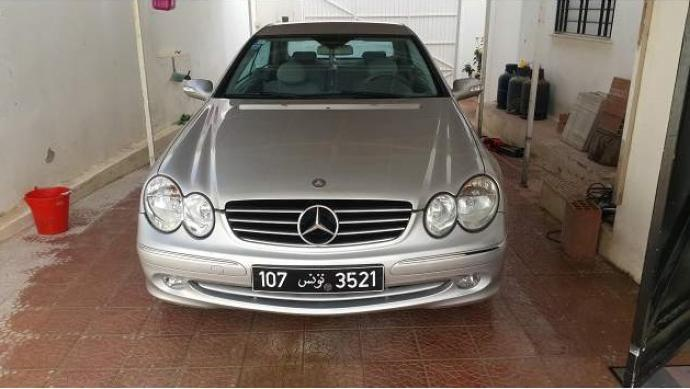LP: (249, 264, 387, 294)
